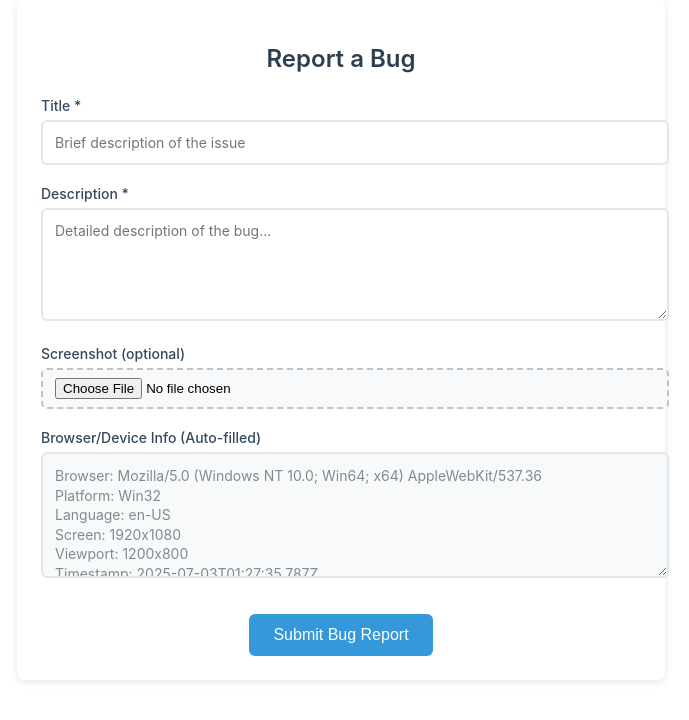
Test case: BugReportForm › Loading and Success State › shows success message after successful API response
This screenshot has width=689, height=720.
Type "Bug Title" into the field labelled "Title *" at (355, 142), box [41, 120, 669, 165]
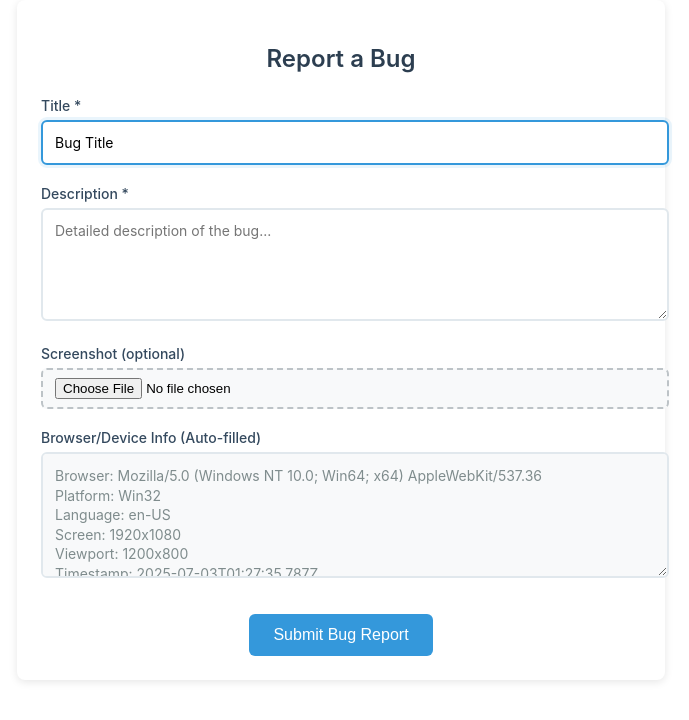
Type "Bug Description" into the text box labelled "Description *" at (355, 264), box [41, 208, 669, 321]
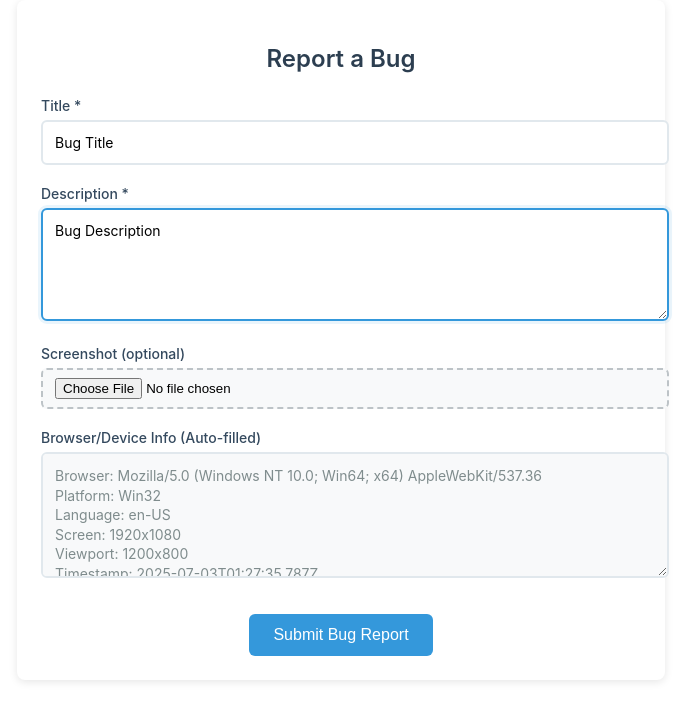
Click the button "Submit Bug Report" at (341, 635), box [249, 614, 433, 656]
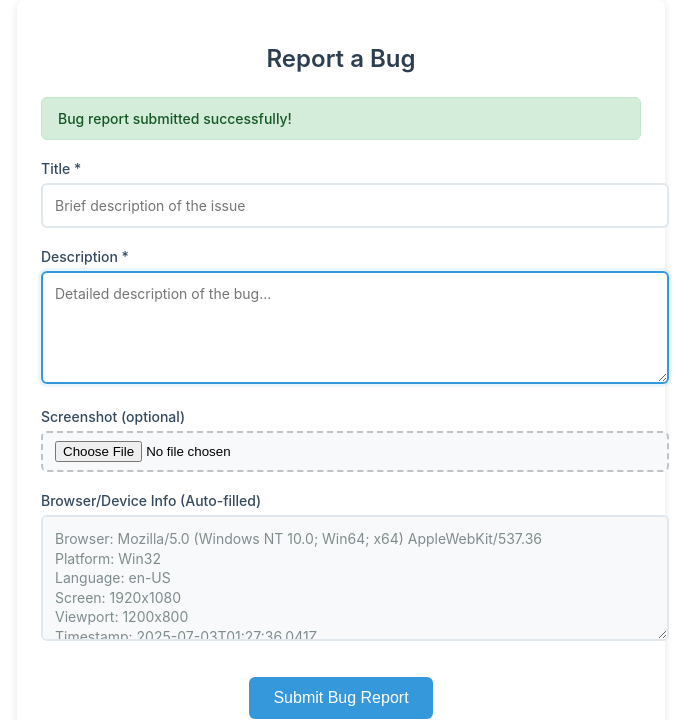
Expected: the text "Bug report submitted successfully!" is shown, [41, 97, 641, 140]
